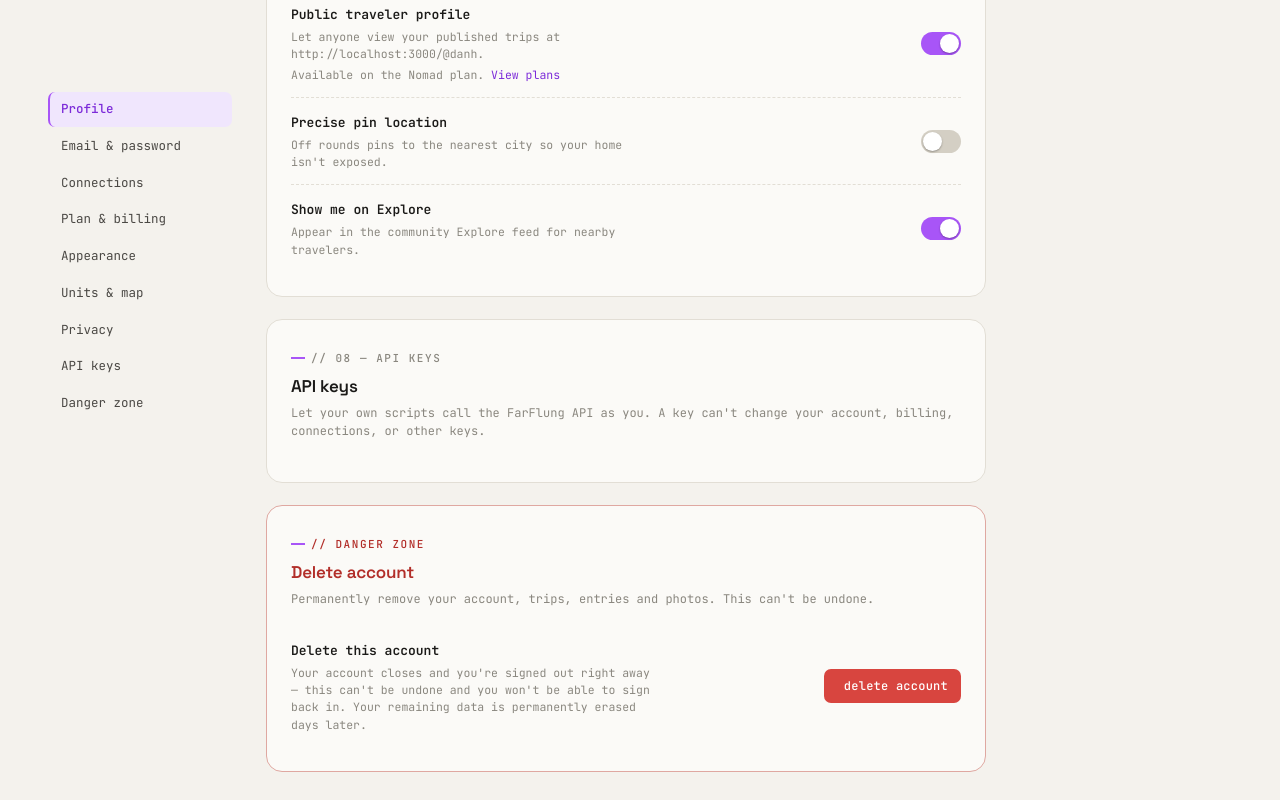
Settings page (/settings) › shows the user's real place and trip counts in the delete confirmation, not hardcoded values
This screenshot has width=1280, height=800.
(page scrolled)
What coordinates should you click on to do the following:
click the button "delete account"
I would click on:
 (893, 686)
Its box is [824, 669, 961, 703].
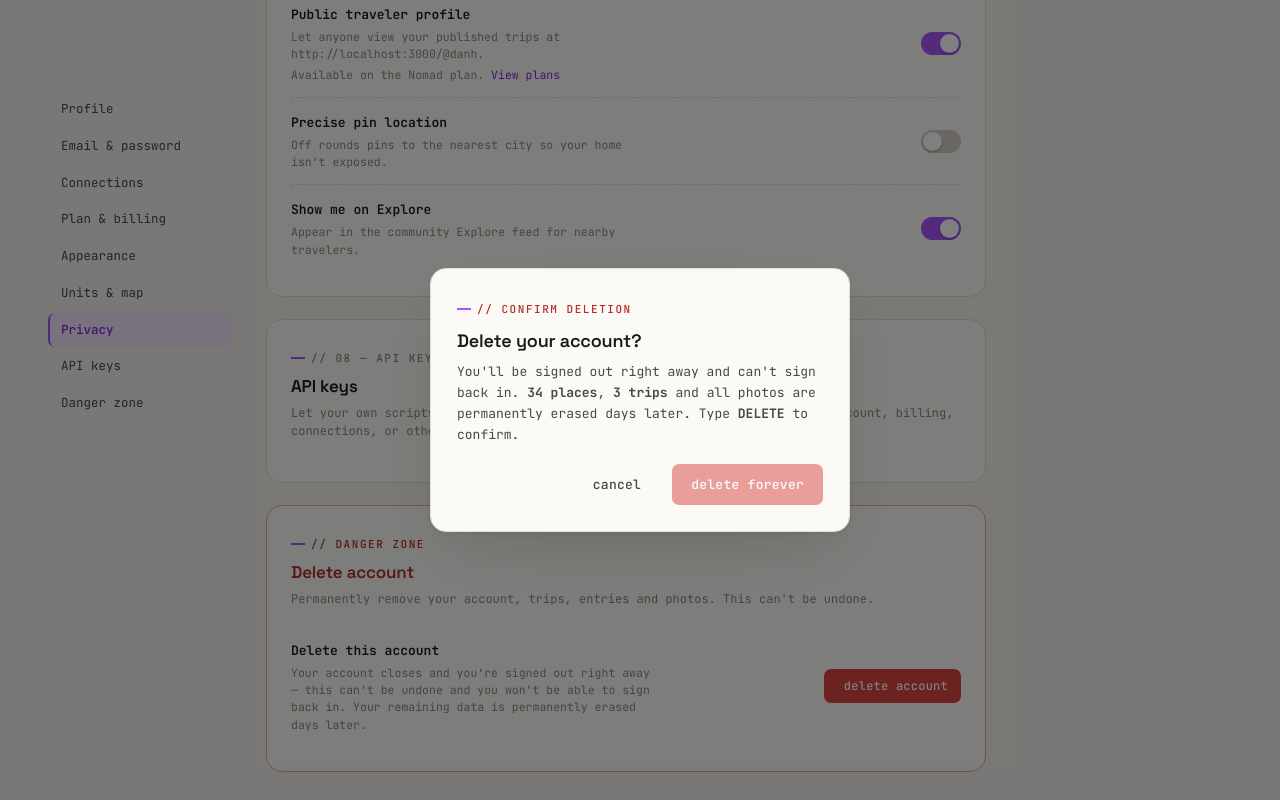
Expected: the element with class "modal" shows "34 places", [527, 384, 597, 401]
Expected: the element with class "modal" shows "3 trips", [613, 384, 668, 401]
